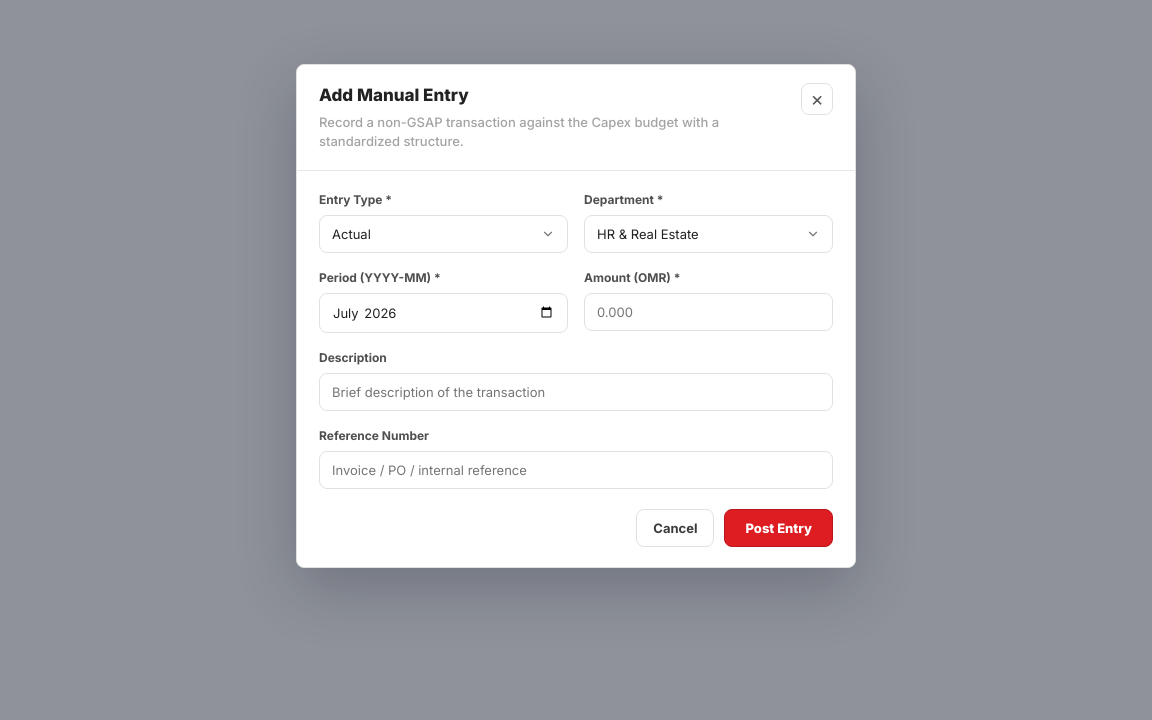
Test case: ManualEntryModal — rendering › renders all entry type options
Click the dropdown named "Entry Type *": click(444, 234) x1=319 y1=214 x2=568 y2=252
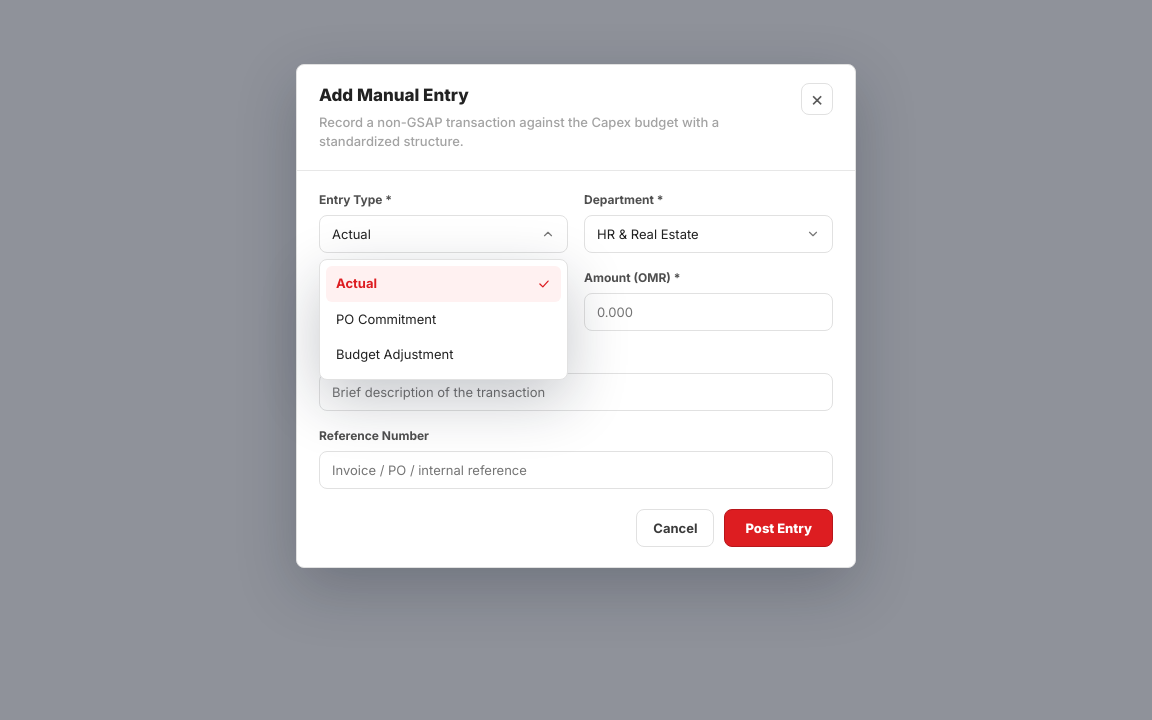
Now the option "Actual" is shown, box x1=326 y1=266 x2=561 y2=302
Now the option "PO Commitment" is shown, box x1=336 y1=310 x2=436 y2=326
Now the option "Budget Adjustment" is shown, box x1=336 y1=346 x2=453 y2=362
